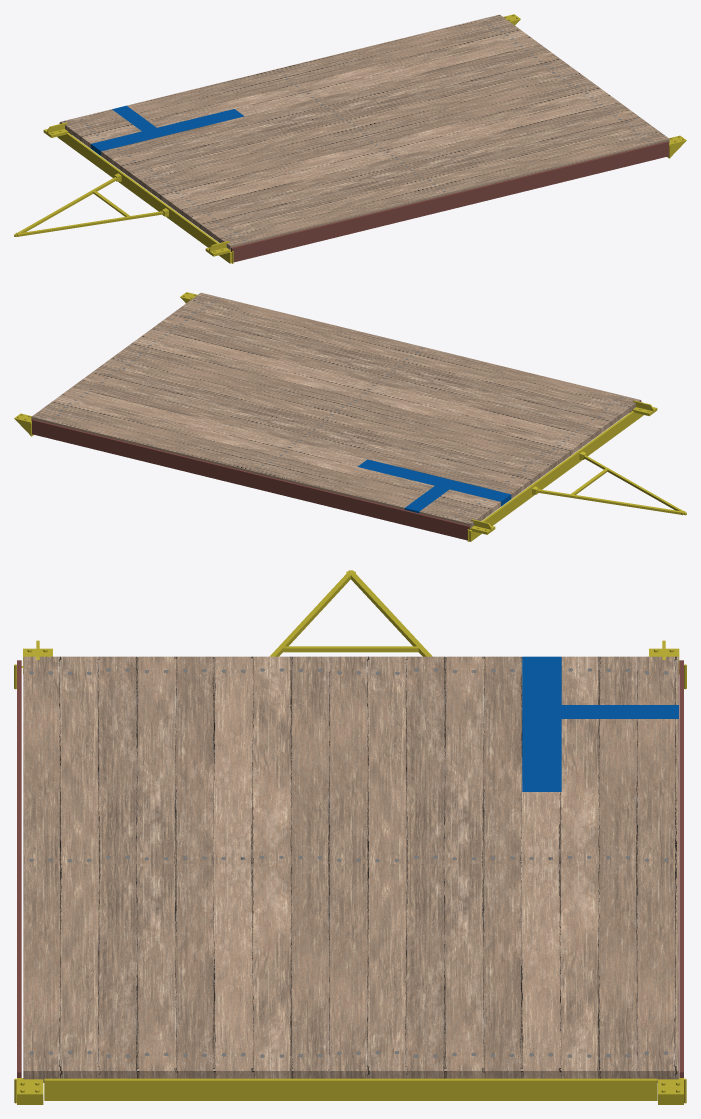
The model's file is edap-helicopter-dolly_LOD02.gltf.
3 renders of one model, top to bottom at view 1: azimuth 30°, elevation 25°; view 2: azimuth 150°, elevation 25°; view 3: azimuth 270°, elevation 25°, orthographic. The views are drawn at different scales.
Parts seen in each view (by area): view 1: platform.002, side frame.004, front frame.002, shackle.002; view 2: platform.002, side frame.005, front frame.002, shackle.002; view 3: platform.002, rear frame.002, shackle.002, side frame.004, side frame.005.
Boxes of the visible parts, left/top/right/bottom form: platform.002: left=60, top=14, right=669, bottom=249; side frame.004: left=231, top=141, right=668, bottom=262; front frame.002: left=57, top=133, right=233, bottom=263; shackle.002: left=14, top=177, right=163, bottom=236; platform.002: left=31, top=292, right=640, bottom=527; side frame.005: left=32, top=419, right=469, bottom=540; front frame.002: left=467, top=402, right=643, bottom=541; shackle.002: left=537, top=455, right=686, bottom=515; platform.002: left=23, top=656, right=678, bottom=1082; rear frame.002: left=44, top=1078, right=657, bottom=1100; shackle.002: left=270, top=570, right=432, bottom=656; side frame.004: left=17, top=660, right=21, bottom=1077; side frame.005: left=679, top=660, right=683, bottom=1077.
Bounding box in the file's own units: 4.88 × 0.1762 × 2.51.
